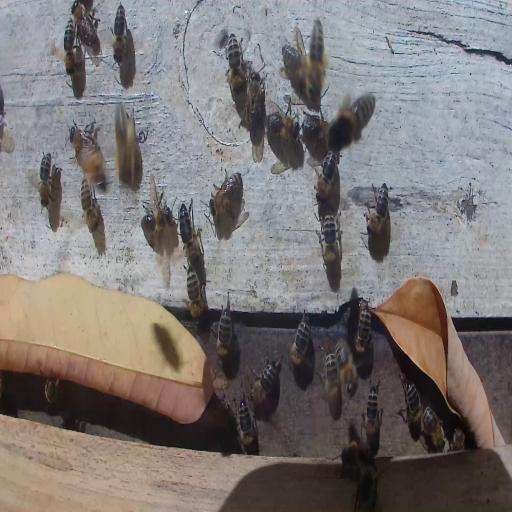nonpollenbee: (252, 348, 284, 409), (177, 200, 203, 268), (281, 22, 306, 85), (212, 169, 242, 221), (318, 210, 340, 276), (365, 182, 391, 236), (234, 397, 258, 454), (336, 341, 358, 401), (399, 380, 422, 436), (289, 311, 311, 369), (316, 150, 340, 202), (322, 350, 340, 419), (363, 383, 382, 448), (341, 439, 377, 473), (354, 466, 379, 512), (80, 180, 102, 232), (422, 405, 446, 452), (72, 4, 97, 49), (268, 104, 298, 141), (226, 36, 244, 94), (354, 298, 372, 354), (186, 269, 206, 319), (302, 112, 329, 147), (70, 122, 96, 158), (142, 207, 174, 236), (112, 4, 126, 64), (216, 305, 232, 356), (39, 150, 52, 208), (64, 18, 76, 74), (44, 376, 58, 406), (452, 426, 466, 452)
pollenbee: (326, 86, 375, 152), (110, 92, 138, 190), (304, 16, 331, 99)
